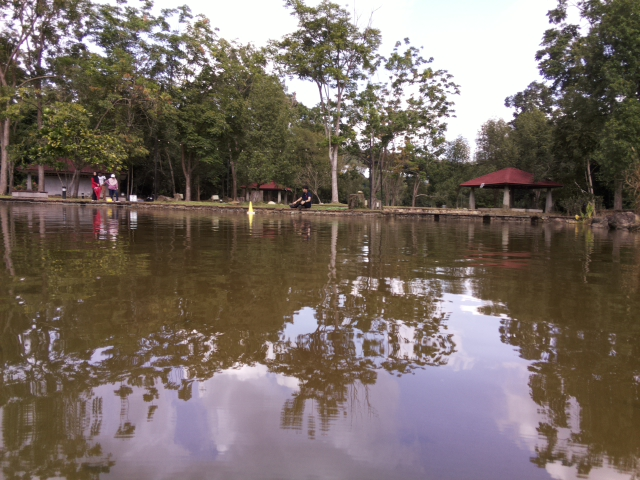checkpoint: (243, 199, 258, 215)
